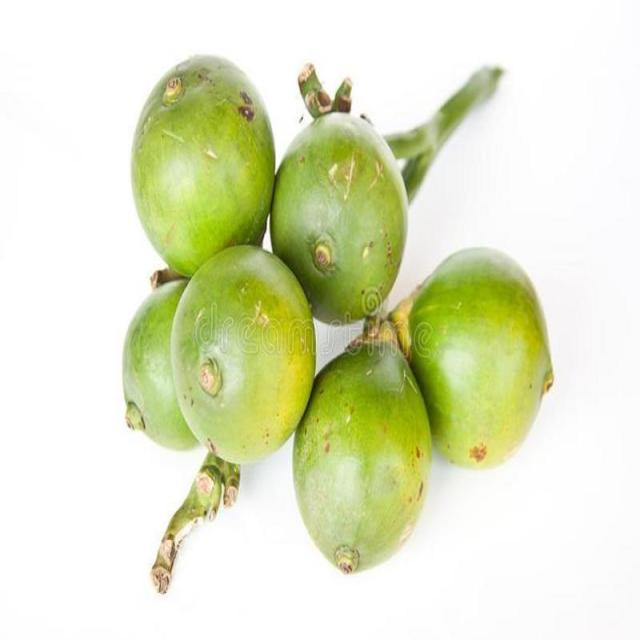good: (268, 80, 430, 328), (395, 248, 555, 472), (165, 246, 318, 469), (129, 55, 278, 282), (291, 341, 434, 577), (122, 278, 202, 453)
